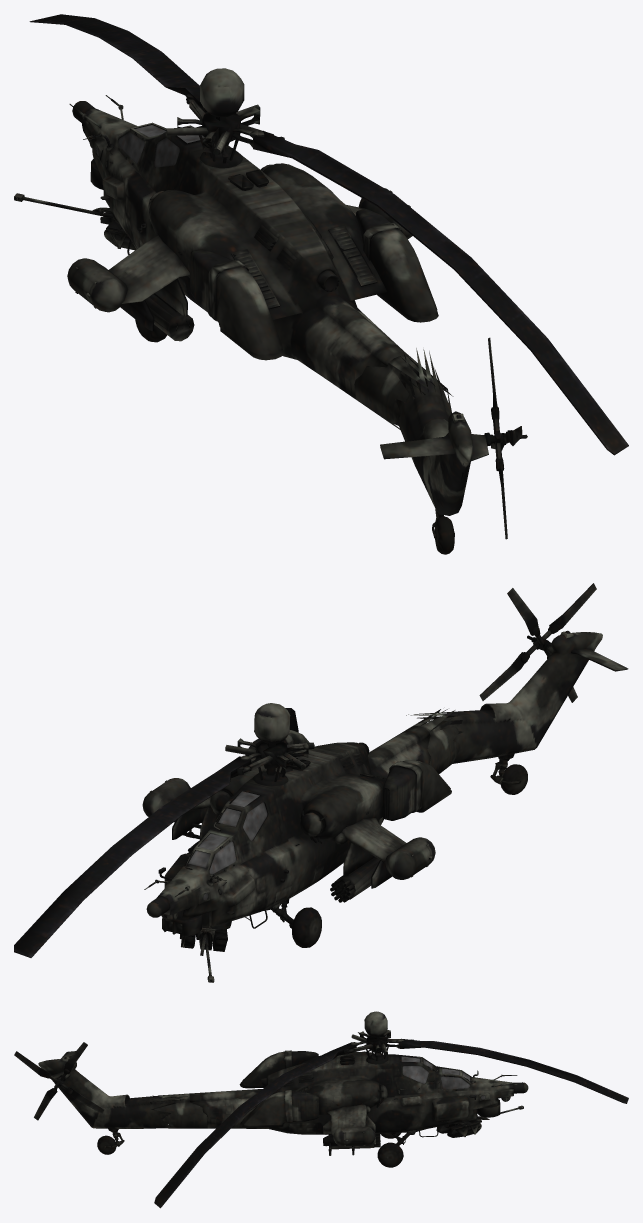
Rendered from mi28-wreck.glb.
3 renders of one model, top to bottom at view 1: azimuth 30°, elevation 25°; view 2: azimuth 150°, elevation 25°; view 3: azimuth 270°, elevation 25°, orthographic. The views are drawn at different scales.
Parts seen in each view (by area): view 1: hull, rotor; view 2: hull, rotor; view 3: hull, rotor.
Boxes of the visible parts, x1=… form: hull: x1=14, y1=95, x2=527, y2=554; rotor: x1=29, y1=14, x2=628, y2=455; hull: x1=142, y1=583, x2=628, y2=982; rotor: x1=14, y1=703, x2=314, y2=957; hull: x1=14, y1=1042, x2=528, y2=1167; rotor: x1=154, y1=1011, x2=628, y2=1208.
Bounding box in the file's own units: 7.53 × 5.65 × 20.92.
Materials: 1 (1 with a texture image).
